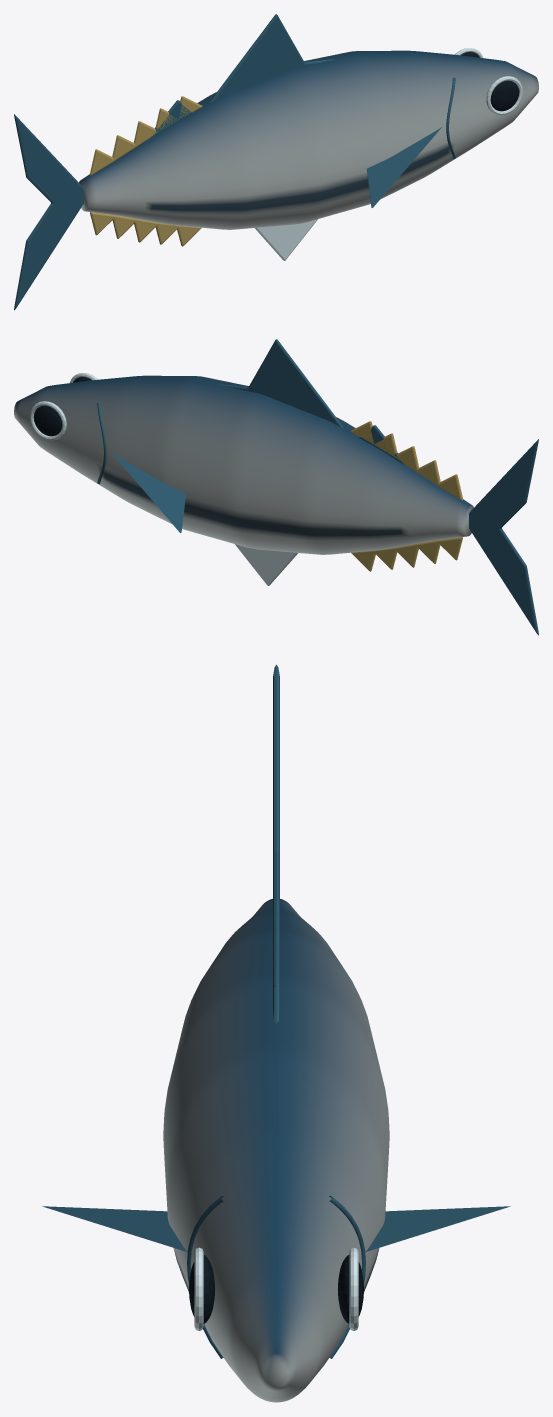
The model's file is skipjack.glb.
3 renders of one model, top to bottom at view 1: azimuth 30°, elevation 25°; view 2: azimuth 150°, elevation 25°; view 3: azimuth 270°, elevation 25°, orthographic. The views are drawn at different scales.
Visible parts, largest first — view 1: Body, Forked tail, Dorsal fin, Pectoral_-1, Ventral fin, Eye_-1, Rear dorsal, Eye silver rim, Finlet_1_3, Finlet_1_4; view 2: Body, Forked tail, Dorsal fin, Pectoral_1, Ventral fin, Eye_1, Eye silver rim.001, Finlet_1_3, Finlet_1_4; view 3: Body, Pectoral_1, Pectoral_-1, Forked tail, Dorsal fin, Eye_1, Eye_-1.
Boxes of the visible parts, bbox=[...] form: Body: bbox=[79, 50, 538, 229]; Forked tail: bbox=[14, 114, 83, 310]; Dorsal fin: bbox=[209, 14, 334, 102]; Pectoral_-1: bbox=[367, 127, 441, 207]; Ventral fin: bbox=[255, 219, 317, 260]; Eye_-1: bbox=[490, 80, 519, 111]; Rear dorsal: bbox=[146, 100, 193, 141]; Eye silver rim: bbox=[486, 76, 522, 115]; Finlet_1_3: bbox=[112, 135, 135, 160]; Finlet_1_4: bbox=[90, 149, 115, 175]; Body: bbox=[14, 375, 473, 554]; Forked tail: bbox=[469, 439, 538, 635]; Dorsal fin: bbox=[218, 339, 343, 427]; Pectoral_1: bbox=[111, 452, 185, 532]; Ventral fin: bbox=[235, 544, 297, 585]; Eye_1: bbox=[33, 405, 62, 436]; Eye silver rim.001: bbox=[30, 401, 66, 440]; Finlet_1_3: bbox=[417, 460, 440, 485]; Finlet_1_4: bbox=[437, 474, 462, 500]; Body: bbox=[163, 899, 389, 1402]; Pectoral_1: bbox=[365, 1206, 510, 1251]; Pectoral_-1: bbox=[42, 1206, 187, 1251]; Forked tail: bbox=[273, 664, 279, 851]; Dorsal fin: bbox=[273, 849, 279, 1023]; Eye_1: bbox=[337, 1255, 363, 1323]; Eye_-1: bbox=[189, 1255, 215, 1323].
Bounding box in the file's own units: 4.13 × 1.88 × 1.61.
